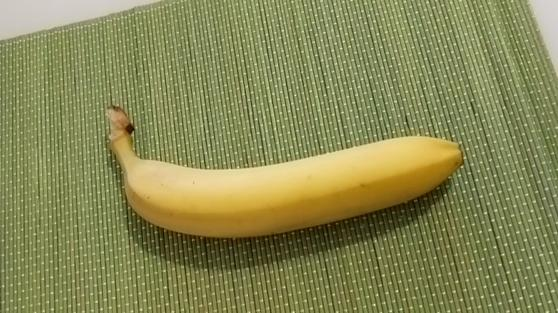banana: (104, 105, 465, 242)
